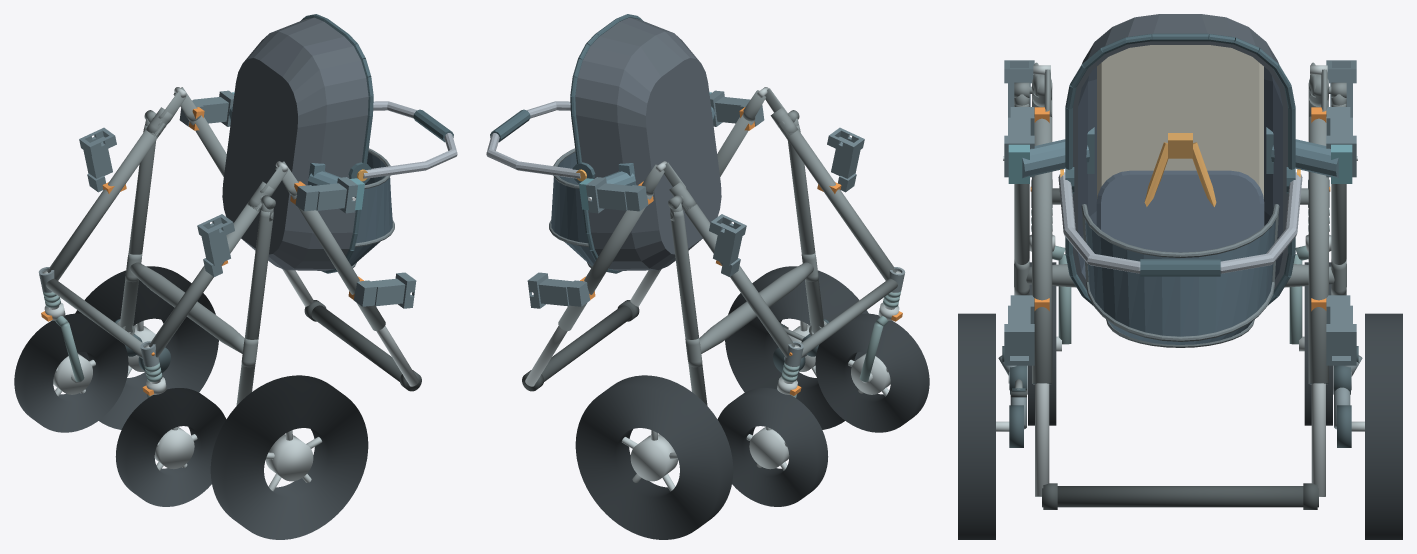
The model's file is S07_w550_state3_wheel_L.glb.
3 renders of one model, left to right at view 1: azimuth 30°, elevation 25°; view 2: azimuth 150°, elevation 25°; view 3: azimuth 270°, elevation 25°, orthographic. The views are drawn at different scales.
Visible parts, largest first — view 1: S07_Cabin, RL_tire.002, FR_tire.002, FL_tire.002, RR_tire.002, main_lower_1.003, V46_rear_leg_-1.003, V46_rear_leg_1.003, V46_rearbar.003, main_lower_-1.003, main_upper_-1.003, round_handle.002 (+13 smaller); view 2: S07_Cabin, RR_tire.002, FL_tire.002, FR_tire.002, RL_tire.002, main_lower_-1.003, V46_rear_leg_1.003, V46_rear_leg_-1.003, V46_rearbar.003, main_lower_1.003, main_upper_1.003, round_handle.002 (+13 smaller); view 3: S07_Cabin, RL_tire.002, RR_tire.002, round_handle.002, S07_Cabin_Mount_M, main_upper_1.003, main_upper_-1.003, Universal_Cabin_Receiver_H_1, Universal_Cabin_Receiver_H_-1, handle_slider_1.002, handle_slider_-1.002, V46_rear_leg_1.003 (+12 smaller).
Boxes of the visible parts, x1=… form: S07_Cabin: x1=222, y1=14, x2=457, y2=273; RL_tire.002: x1=210, y1=375, x2=368, y2=539; FR_tire.002: x1=14, y1=313, x2=128, y2=432; FL_tire.002: x1=115, y1=388, x2=226, y2=506; RR_tire.002: x1=75, y1=266, x2=218, y2=429; main_lower_1.003: x1=47, y1=123, x2=165, y2=280; V46_rear_leg_-1.003: x1=236, y1=210, x2=273, y2=405; V46_rear_leg_1.003: x1=119, y1=125, x2=156, y2=332; V46_rearbar.003: x1=130, y1=262, x2=244, y2=353; main_lower_-1.003: x1=149, y1=203, x2=261, y2=357; main_upper_-1.003: x1=291, y1=195, x2=385, y2=330; round_handle.002: x1=311, y1=305, x2=420, y2=389; S07_Cabin: x1=486, y1=14, x2=721, y2=273; RR_tire.002: x1=575, y1=375, x2=733, y2=539; FL_tire.002: x1=815, y1=313, x2=929, y2=432; FR_tire.002: x1=717, y1=388, x2=828, y2=506; RL_tire.002: x1=725, y1=266, x2=868, y2=429; main_lower_-1.003: x1=778, y1=123, x2=896, y2=280; V46_rear_leg_1.003: x1=670, y1=210, x2=707, y2=405; V46_rear_leg_-1.003: x1=787, y1=125, x2=824, y2=332; V46_rearbar.003: x1=699, y1=262, x2=813, y2=353; main_lower_1.003: x1=682, y1=203, x2=794, y2=357; main_upper_1.003: x1=558, y1=194, x2=653, y2=330; round_handle.002: x1=523, y1=305, x2=632, y2=389; S07_Cabin: x1=1058, y1=14, x2=1302, y2=347; RL_tire.002: x1=958, y1=313, x2=995, y2=539; RR_tire.002: x1=1365, y1=313, x2=1402, y2=539; round_handle.002: x1=1042, y1=486, x2=1318, y2=507; S07_Cabin_Mount_M: x1=1003, y1=127, x2=1357, y2=183; main_upper_1.003: x1=1308, y1=116, x2=1328, y2=384; main_upper_-1.003: x1=1032, y1=116, x2=1052, y2=384; Universal_Cabin_Receiver_H_1: x1=1326, y1=295, x2=1356, y2=365; Universal_Cabin_Receiver_H_-1: x1=1004, y1=295, x2=1034, y2=365; handle_slider_1.002: x1=1311, y1=383, x2=1325, y2=496; handle_slider_-1.002: x1=1035, y1=383, x2=1049, y2=496; V46_rear_leg_1.003: x1=1331, y1=104, x2=1346, y2=295.
Size of the model in its own units: 0.9235 by 1.01 by 0.7071.
